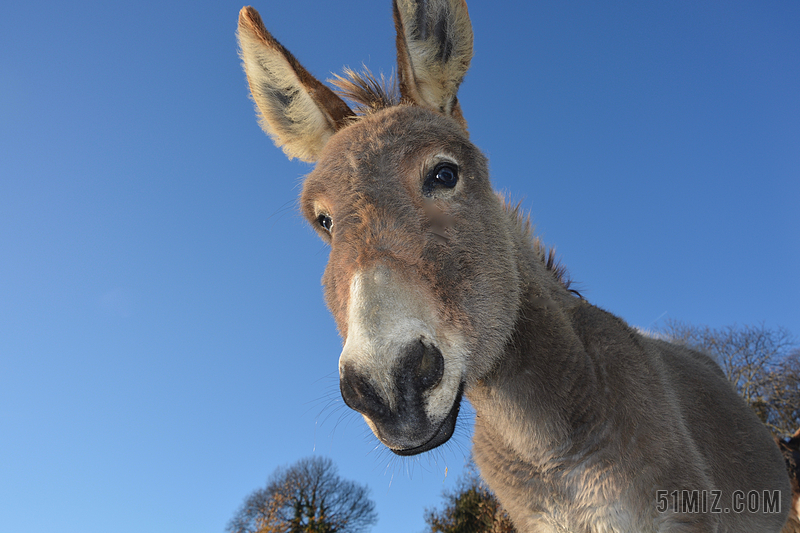background: (223, 2, 799, 533)
